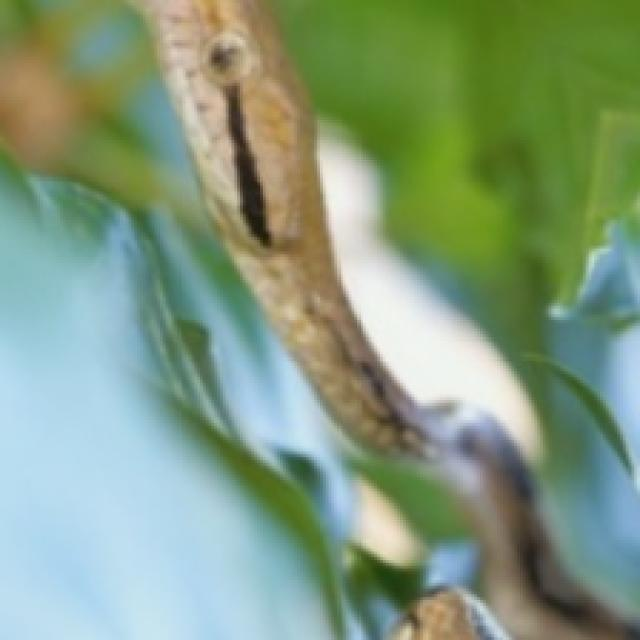dog-toothed cat snake: (0, 0, 637, 637), (143, 0, 637, 637)
